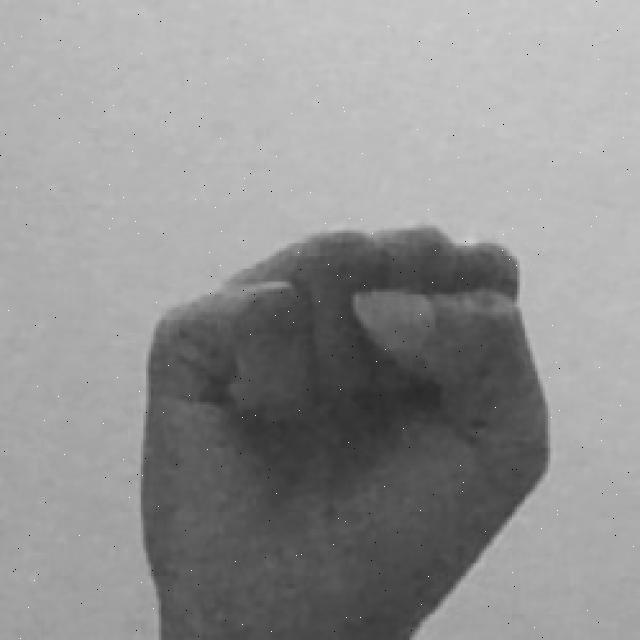S: (138, 219, 555, 640)
